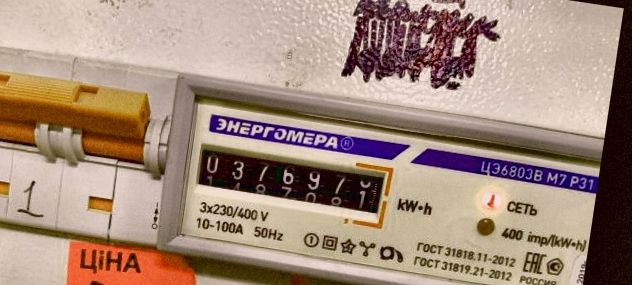0: (203, 151, 221, 174)
1: (355, 187, 369, 210)
3: (229, 157, 246, 181)
6: (281, 162, 297, 185)
7: (255, 157, 271, 183), (331, 171, 347, 195)
9: (305, 167, 321, 191)
screen: (186, 135, 397, 232)
